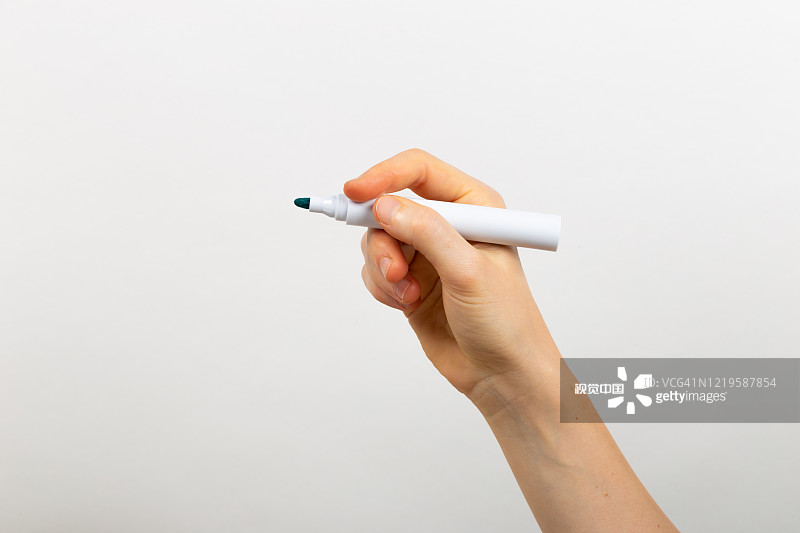no-phone: (289, 136, 566, 409)
